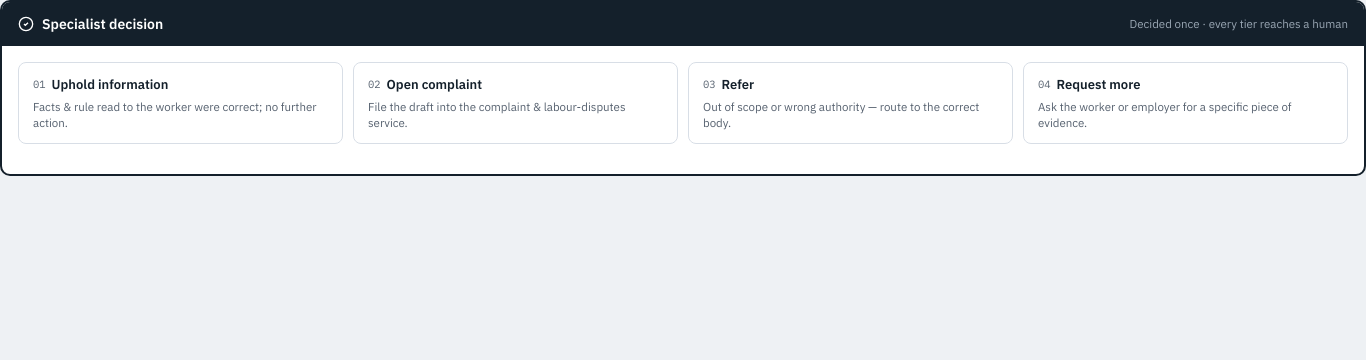
Test: DecisionPanel — validation › lets the specialist submit without typing a note
Click the radio button labelled "Open complaint" at (516, 103), box [353,62,678,144]
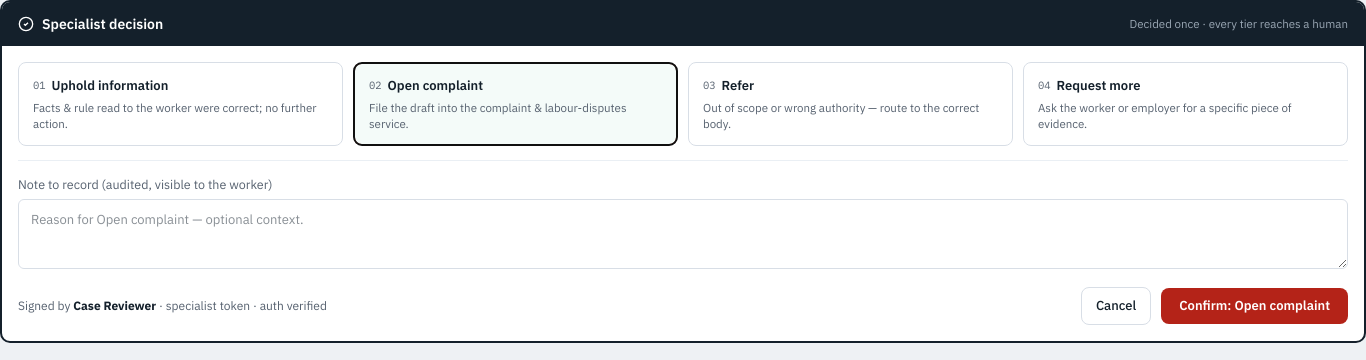
expect the button "Confirm: Open complaint" is enabled: met, box [1161,288,1348,324]
